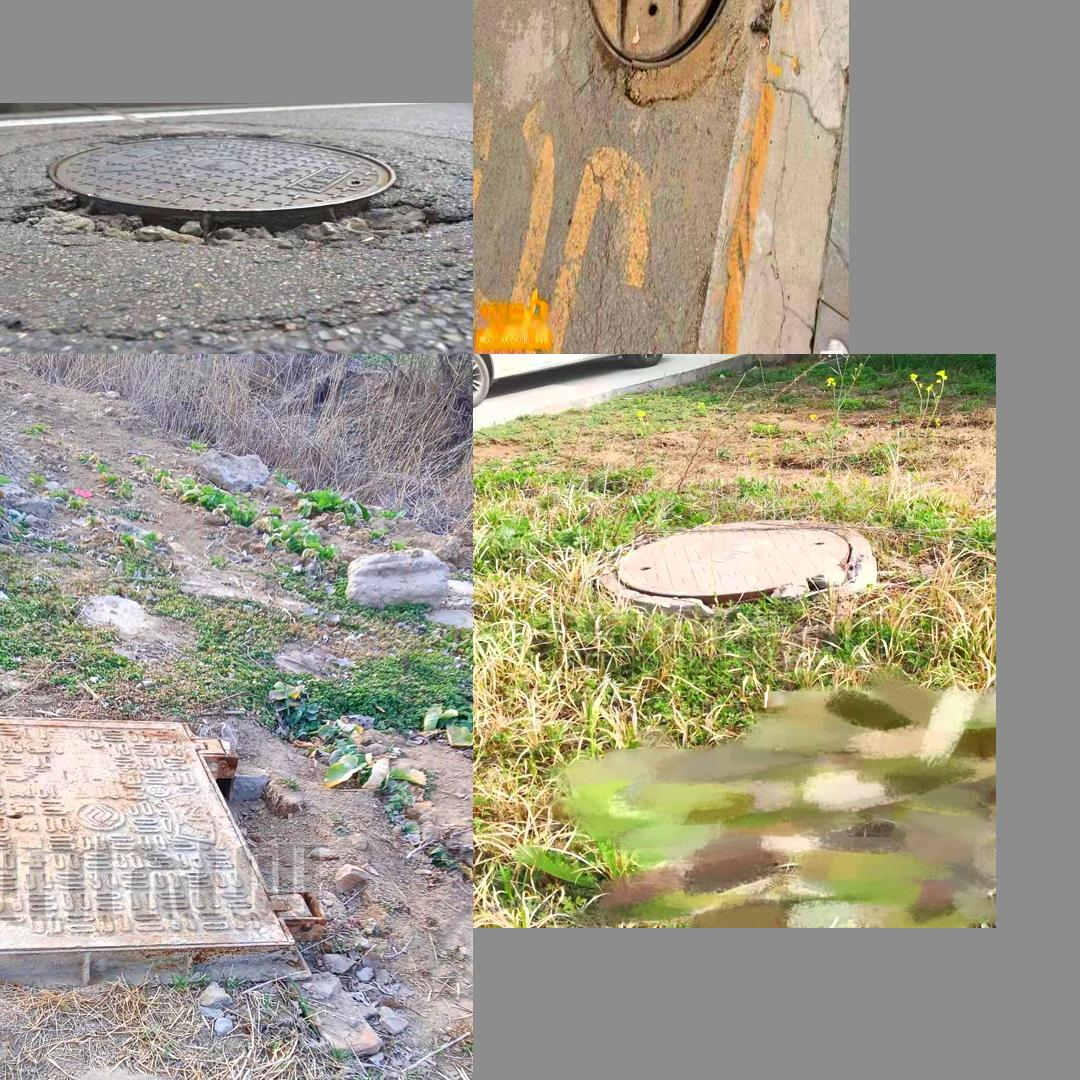circle: (0, 706, 326, 993), (0, 127, 463, 263), (567, 0, 806, 148), (580, 513, 873, 617)
